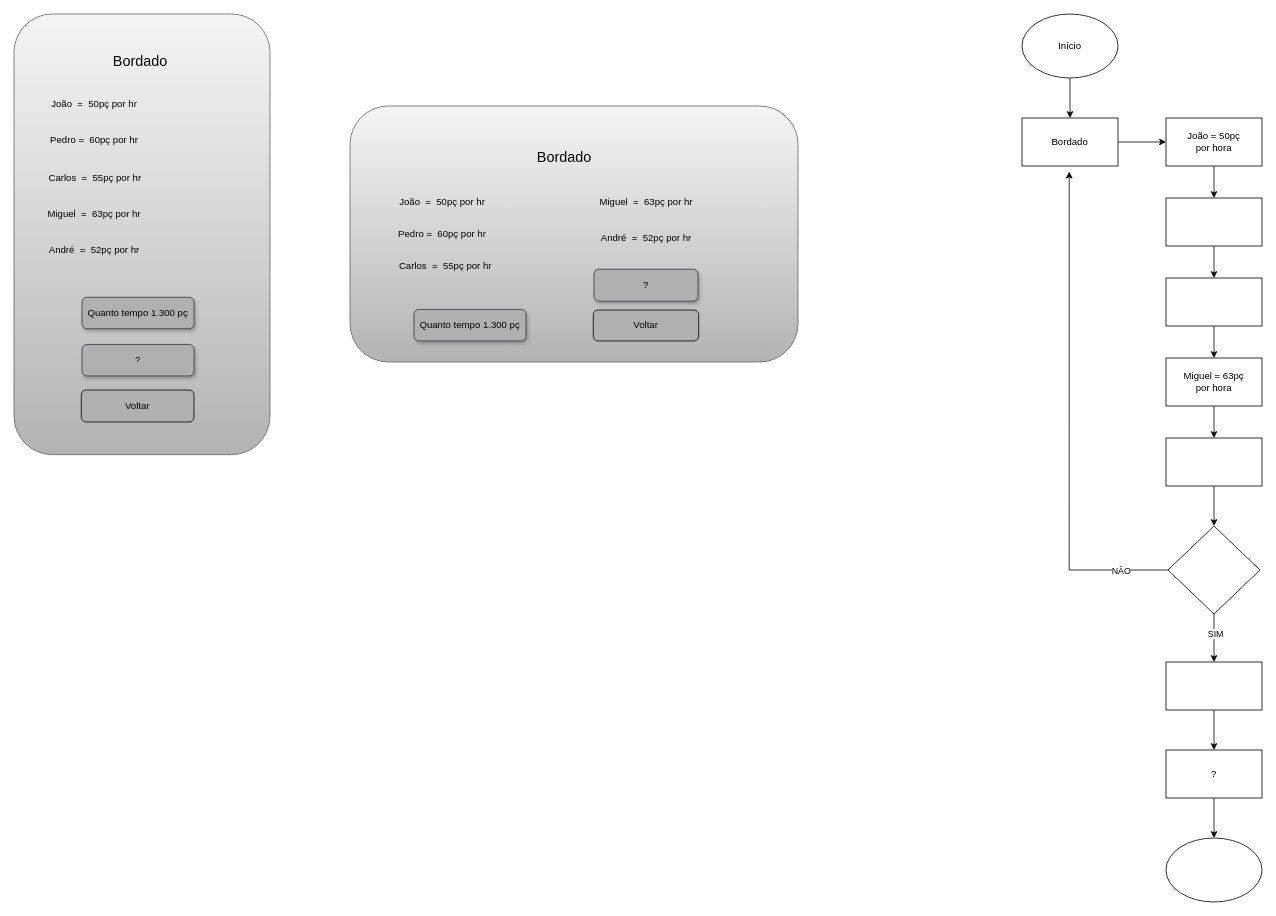
This 1276x916 diagram has some shape labels left out. Here are the shapes that lost their labels. From the top down, the centre of each, then its label:
At (x=1213, y=221): "Pedro = 60pç por hora".
At (x=1213, y=301): "Carlos = 55pç por hora".
At (x=1213, y=461): "André = 52pç por hora".
At (x=1213, y=569): "Está Correto?".
At (x=1213, y=685): "Quanto Tempo 1.300pç".
At (x=1213, y=869): "Fim".
